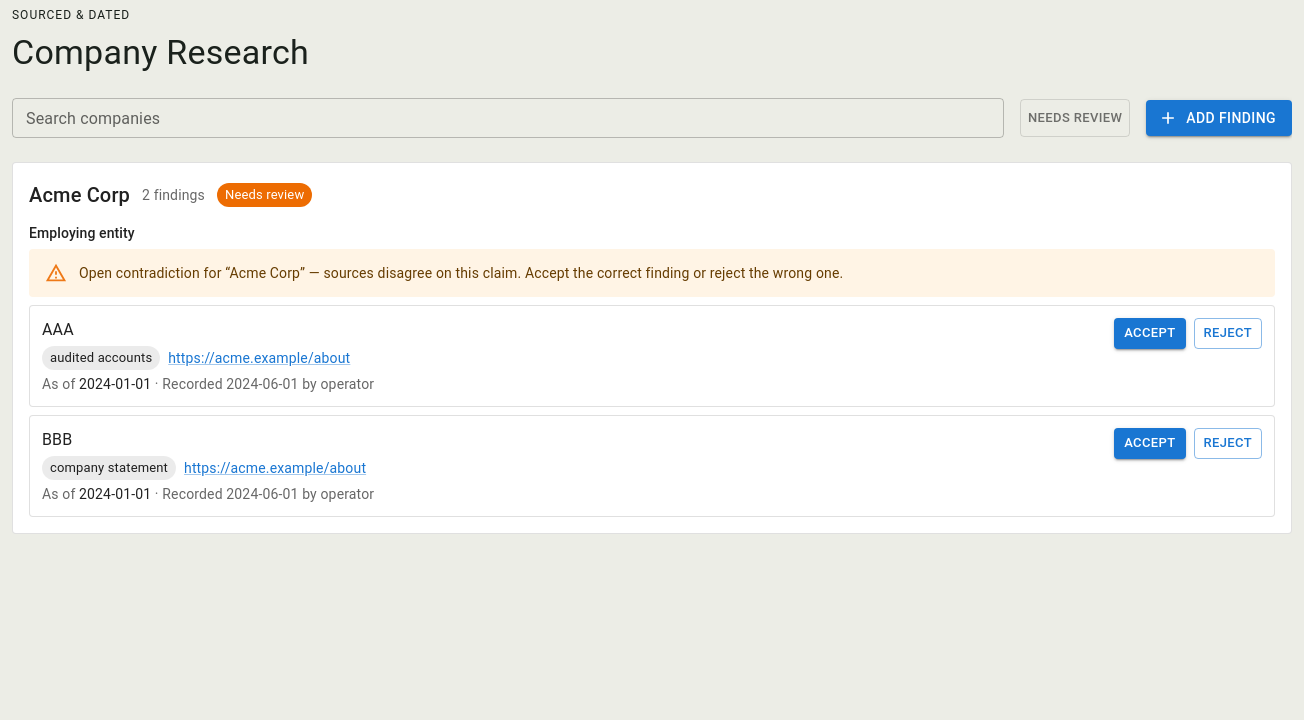
Test: CompanyResearchPage › reports a refetch failure after a successful resolve as a load error
Check: the text "AAA" is shown, box [42,320,74,339]
Click the button "Accept" in the row of "AAA". click: (1150, 333)
box: [1114,318,1186,349]
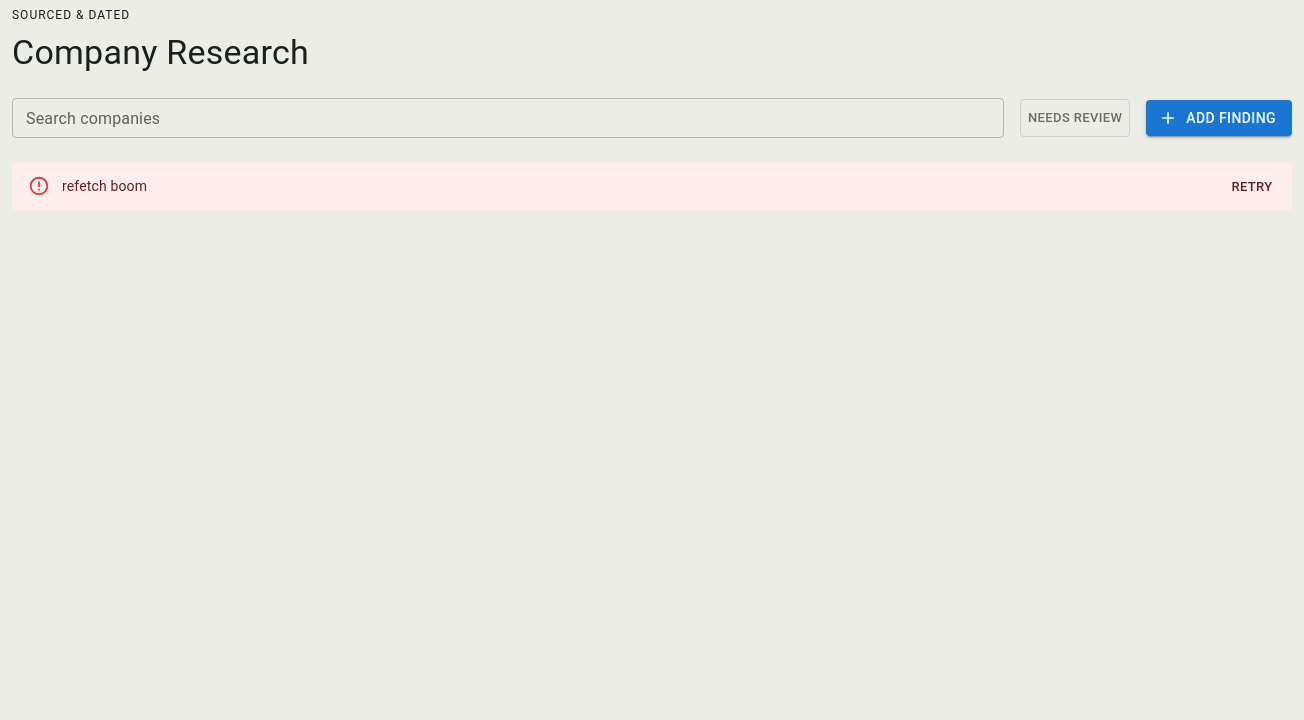
Check: the text "refetch boom" is shown, box [62,178,147,194]
Check: the button "Retry" is shown, box [1220,172,1284,203]
